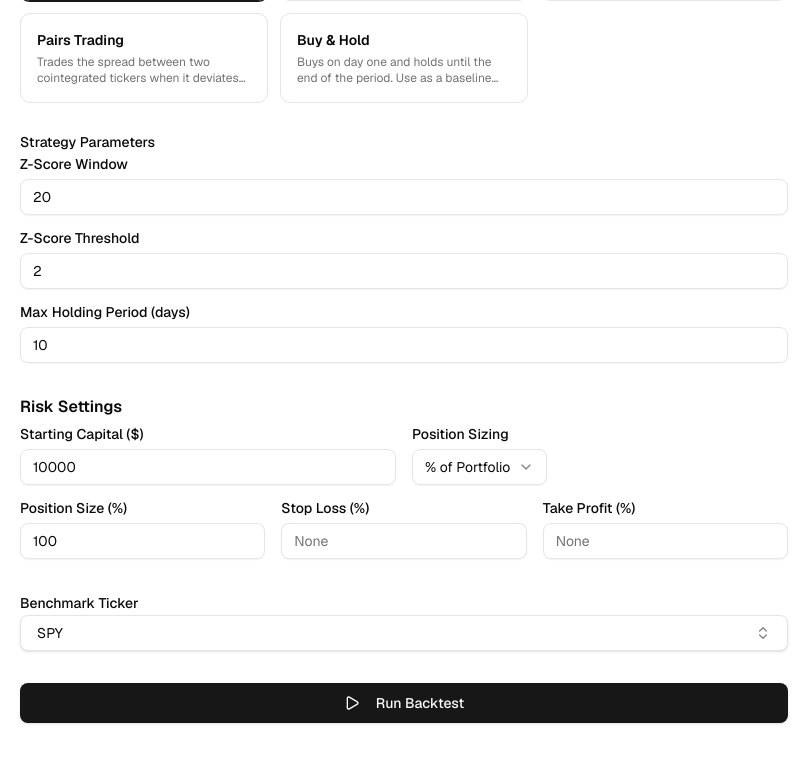
Test: StrategyBuilderForm — inline validation errors › shows validation error summary on validation failure
(page scrolled)
Step 1. Click the button with test id "run-backtest-button" → click(404, 703), box [20,683,788,723]
(page scrolled)
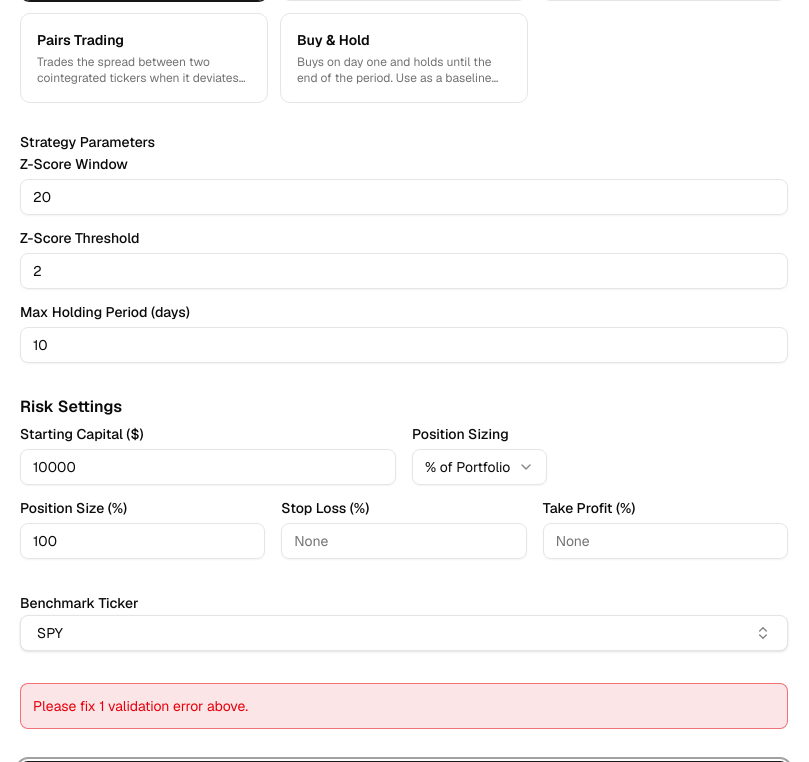
Expected: the message with test id "validation-error" reads "Please fix 1 validation error above.", [20,683,788,729]
